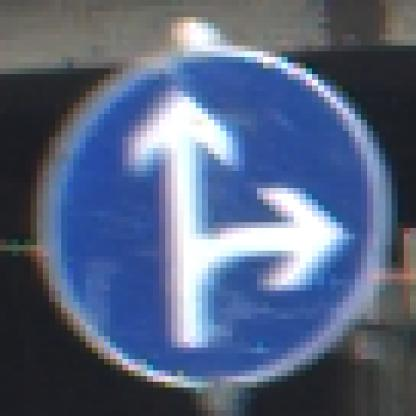Straight or Right: (44, 41, 380, 377)
